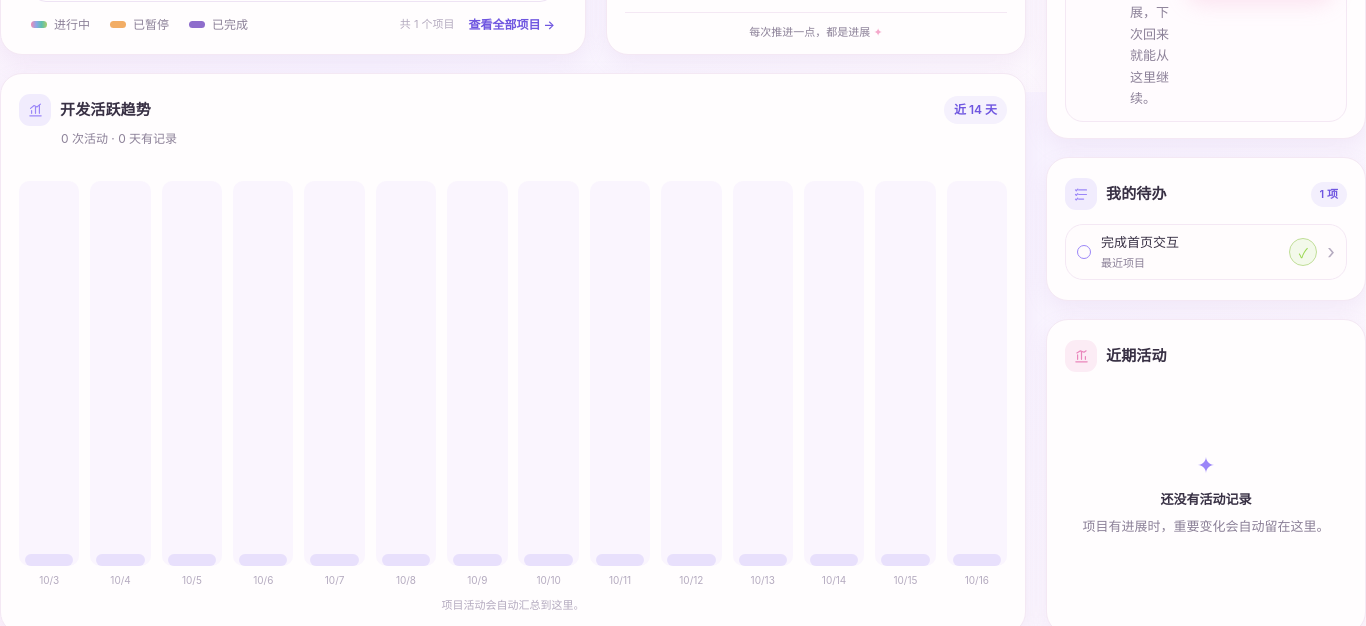
it: DashboardView › completes a todo through the API and can undo the completion
The image size is (1366, 626).
(page scrolled)
Click the button with class "todo-complete".
click(1303, 252)  # box [1289,238,1317,266]
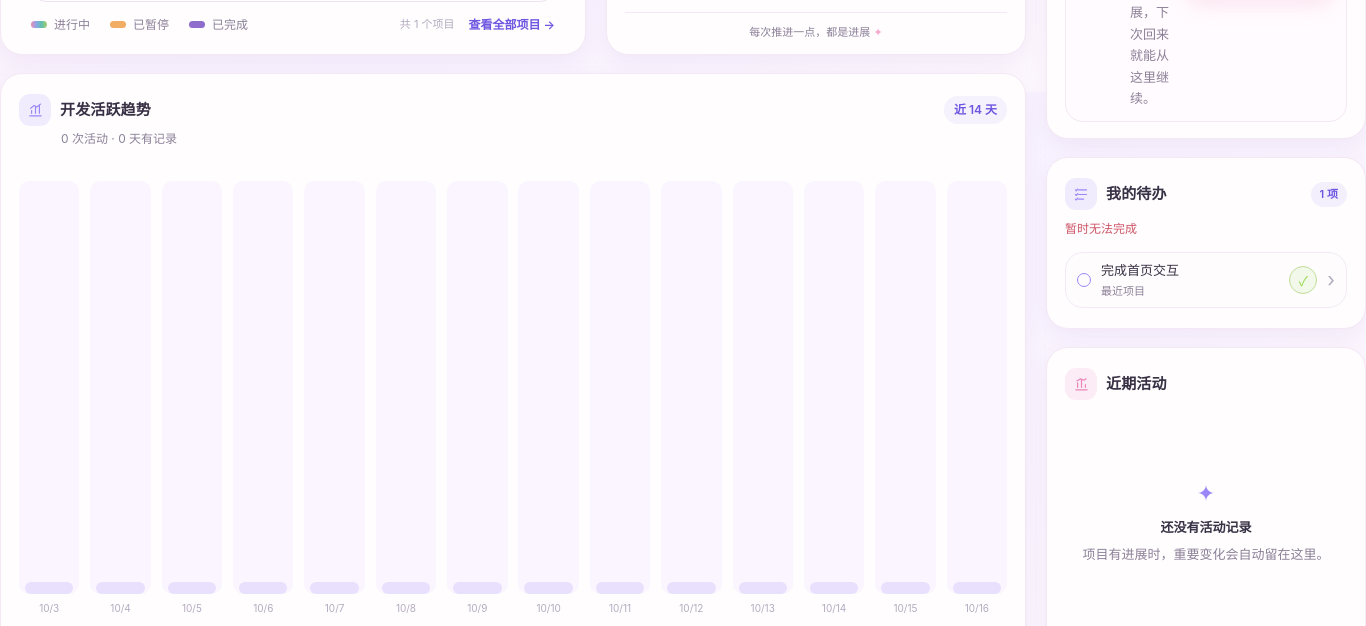
Expected: the link with class "todo-link" is shown, [1101,262,1179,298]
Expected: the text "暂时无法完成" is shown, [1065,221,1137,236]
Click the button with class "todo-complete".
click(1303, 280)  # box [1289,266,1317,294]
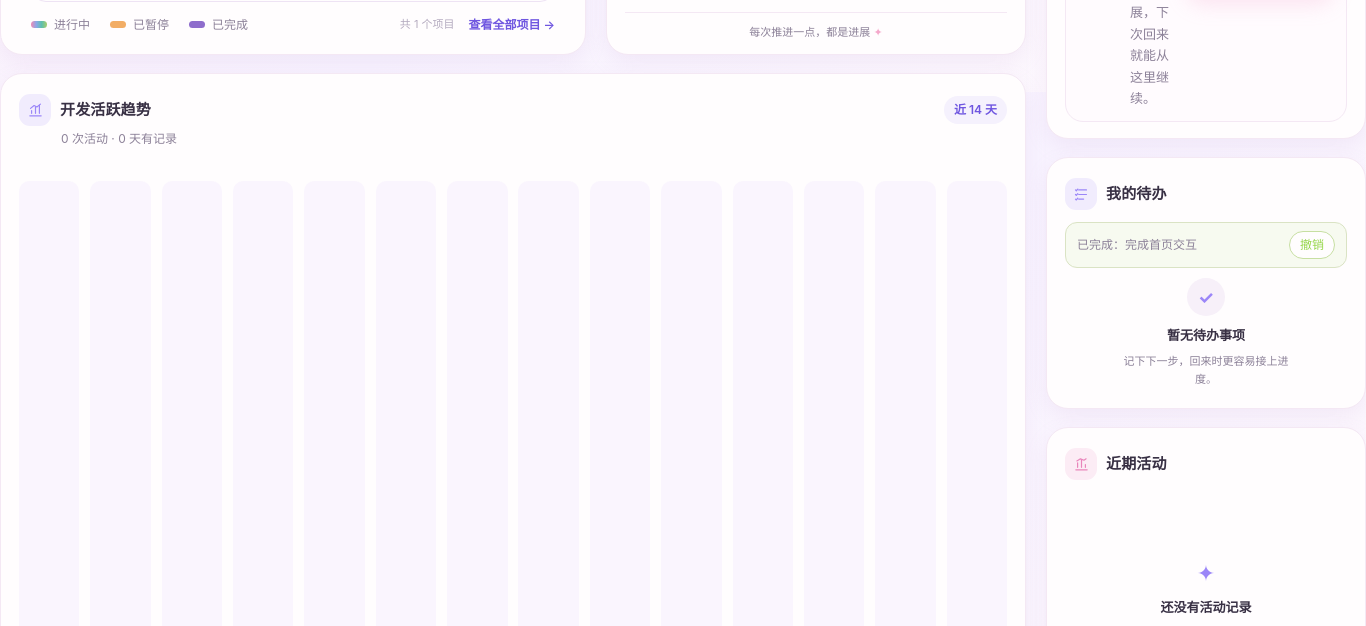
Expected: the text "撤销" is shown
Click the button "撤销".
click(1312, 245)  # box [1289,231,1335,259]
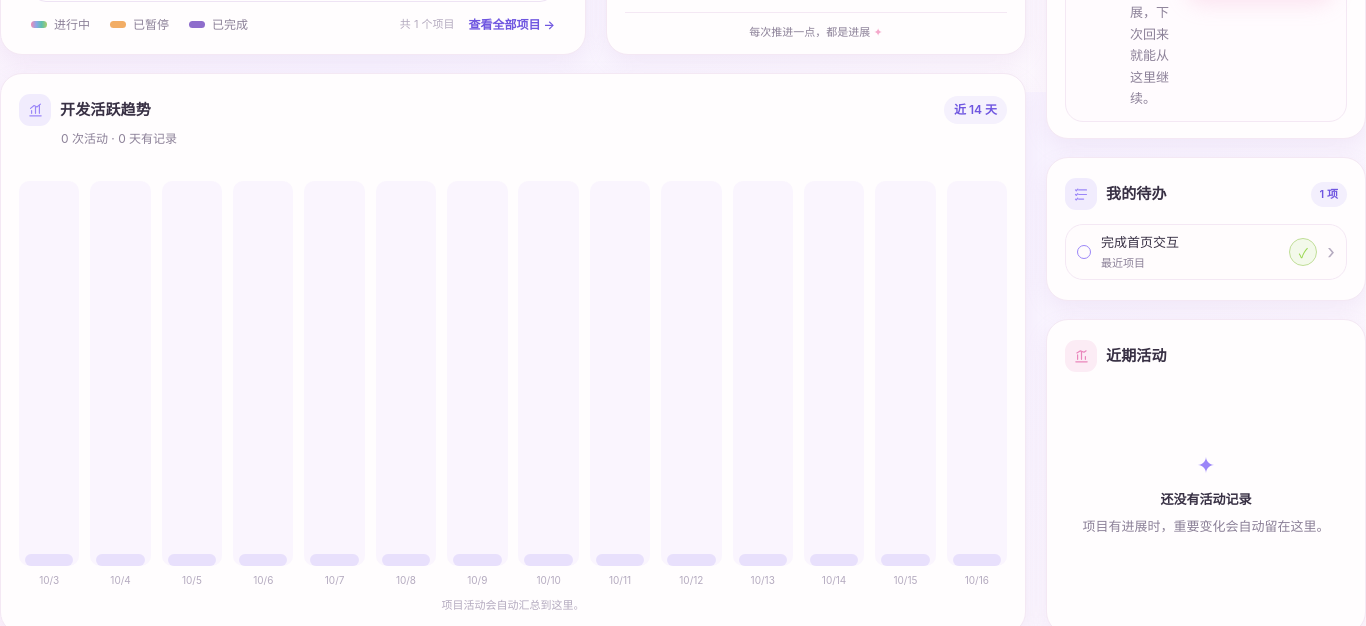
Expected: the link with class "todo-link" is shown, [1101,234,1179,270]
